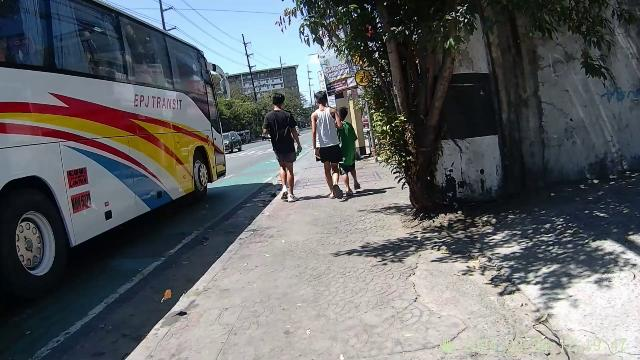street_sign: (354, 64, 382, 160)
tree: (378, 16, 456, 218)
